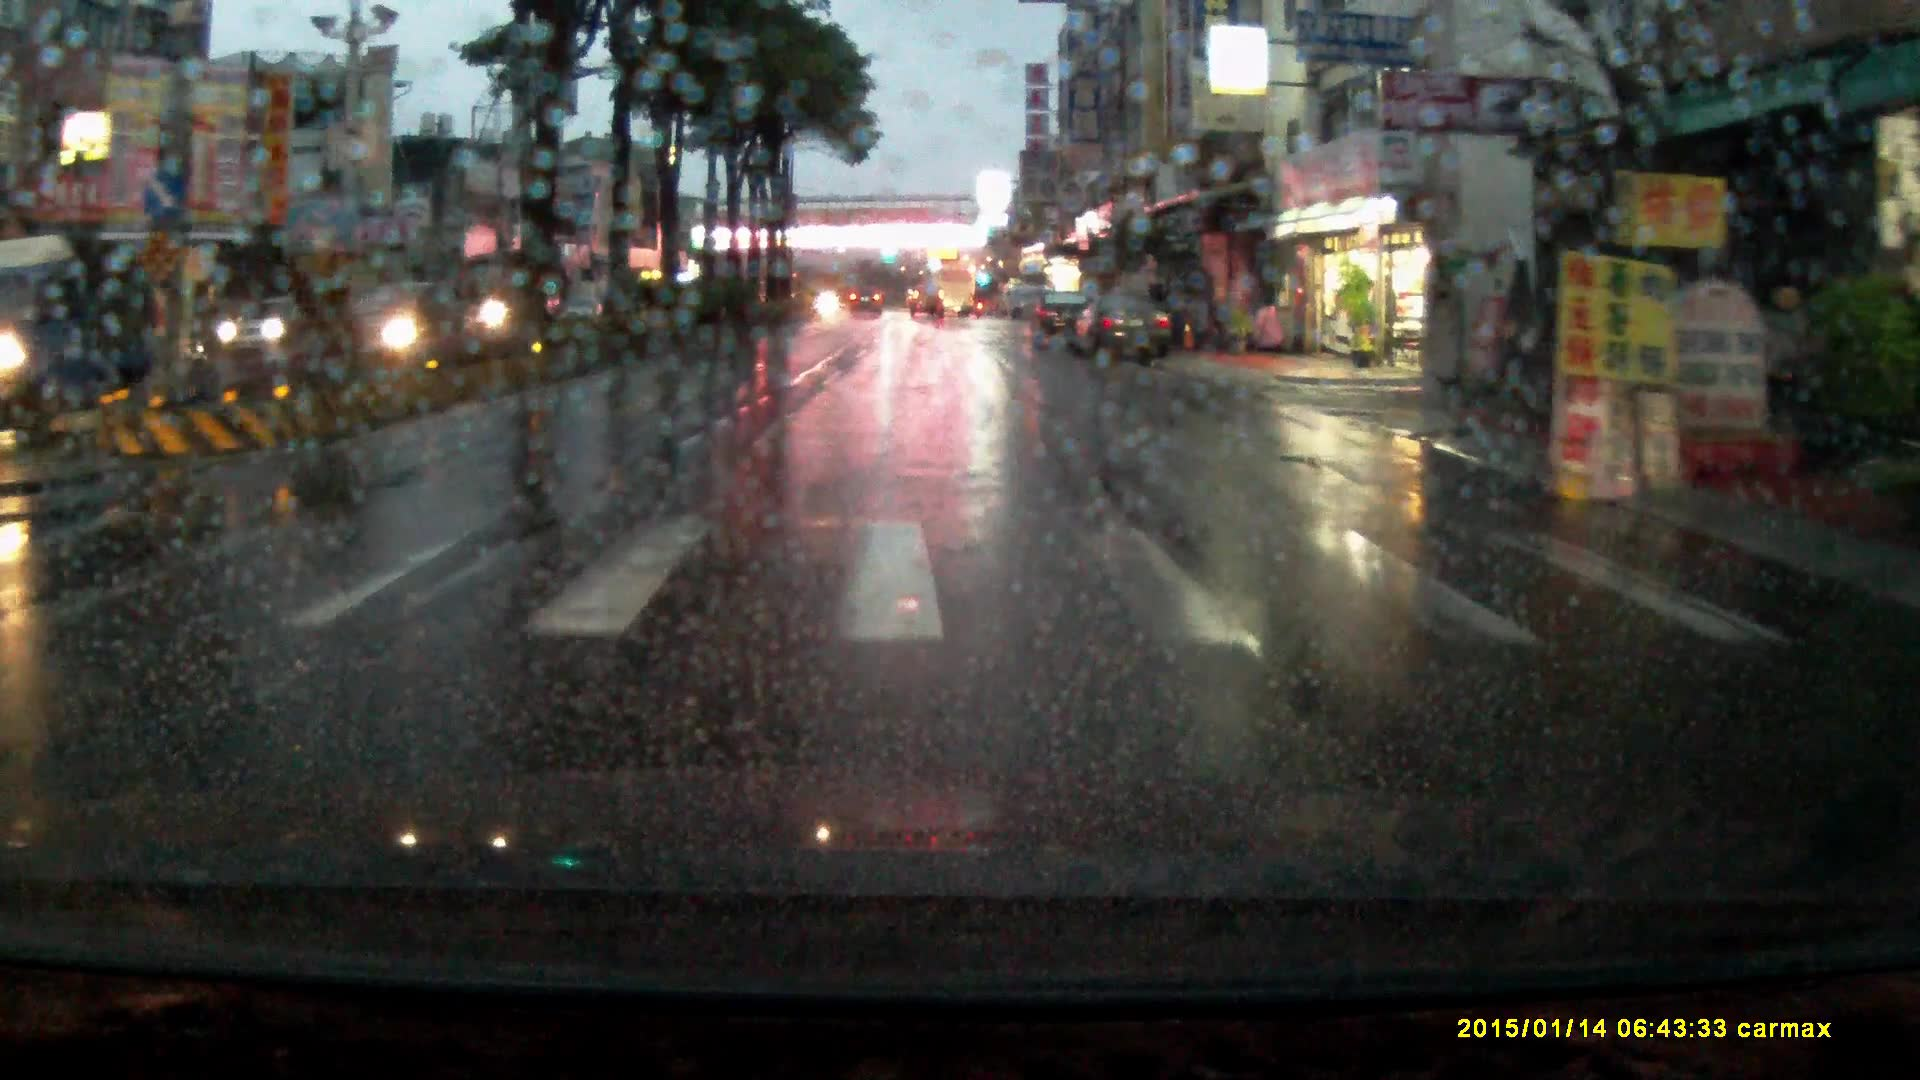rider: (467, 269, 511, 355)
vehicle: (1, 230, 216, 415), (337, 280, 484, 363), (1072, 296, 1177, 371), (218, 301, 306, 364), (1033, 294, 1092, 351), (927, 257, 976, 317), (912, 287, 948, 324), (851, 288, 884, 319)
